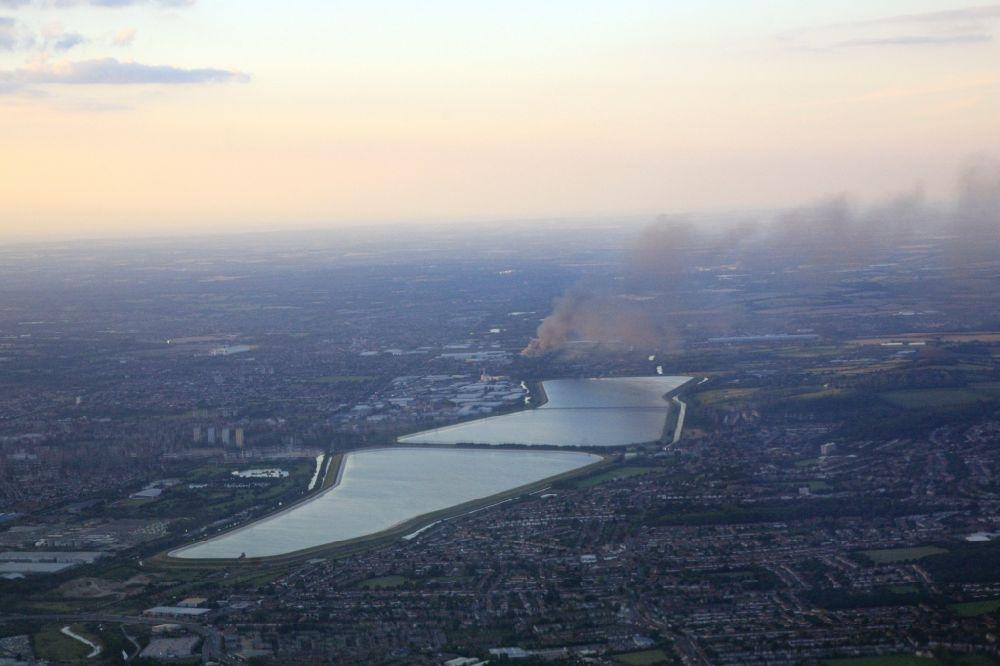smoke: (557, 293, 648, 360)
